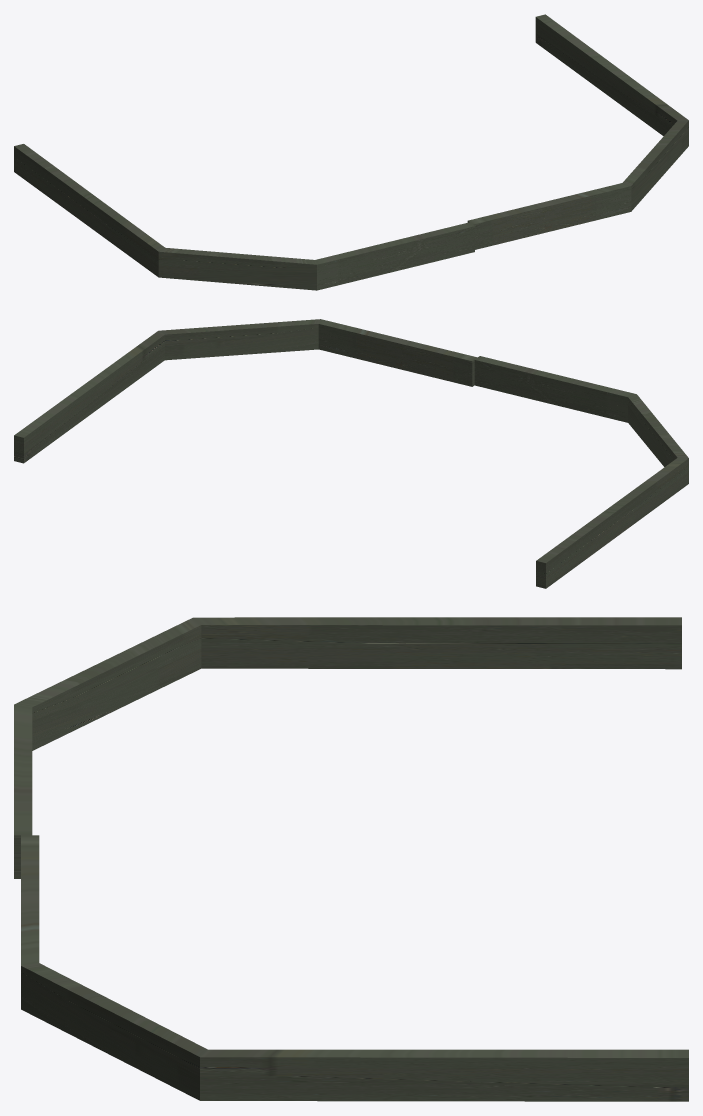
File: FuleLines.fbx
3 views of the same model, one above another, from view 1: azimuth 30°, elevation 25°; view 2: azimuth 150°, elevation 25°; view 3: azimuth 270°, elevation 25° (orthographic). The views are drawn at different scales.
Parts seen in each view (by area): view 1: Object077, Object076; view 2: Object076, Object077; view 3: Object076, Object077.
Boxes of the visible parts, x1,y1,x2,y2 form: Object077: (14,144,474,290); Object076: (467,14,688,249); Object076: (14,319,477,463); Object077: (474,356,688,588); Object076: (21,835,688,1101); Object077: (14,617,681,878).
Bounding box in the file's own units: 322 × 14.9 × 208.
